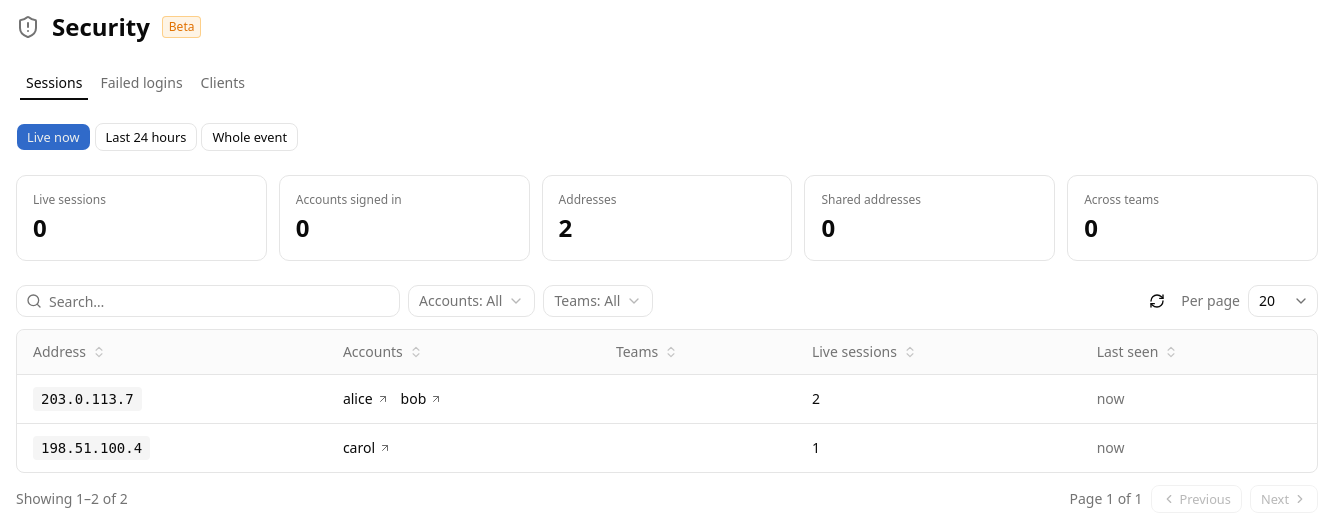
Test: narrows the list to shared addresses on request
The image size is (1335, 530).
Expected: the text "198.51.100.4" is shown, [33,436,150,460]
Click the button "Accounts: All": click(472, 301) [408,285,536,317]
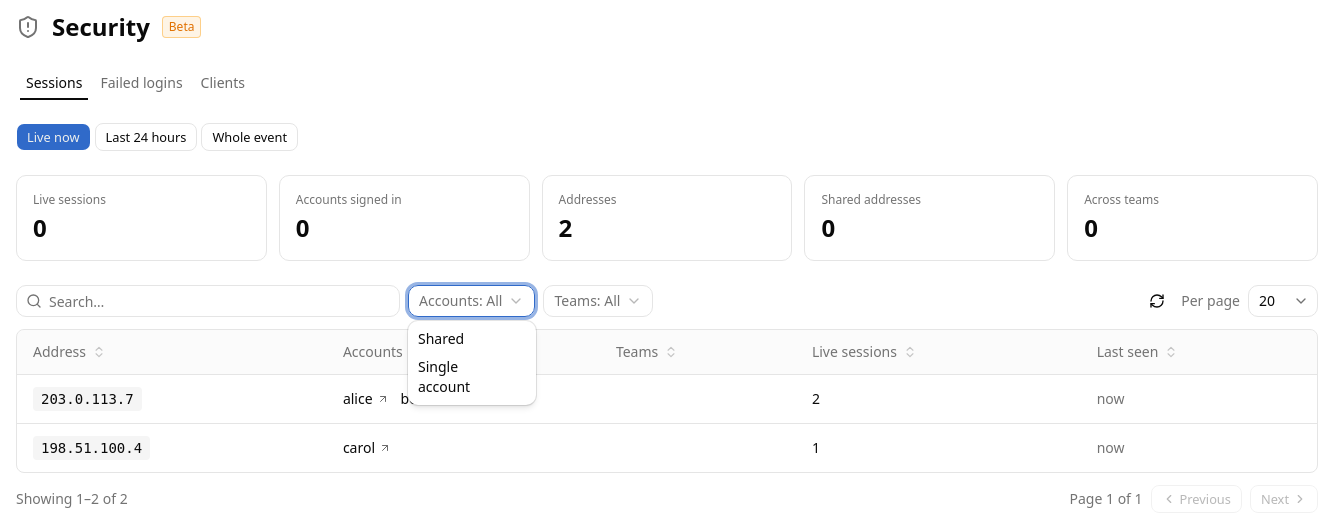
Click the menu item "Shared": click(441, 338) [418,329,464,348]
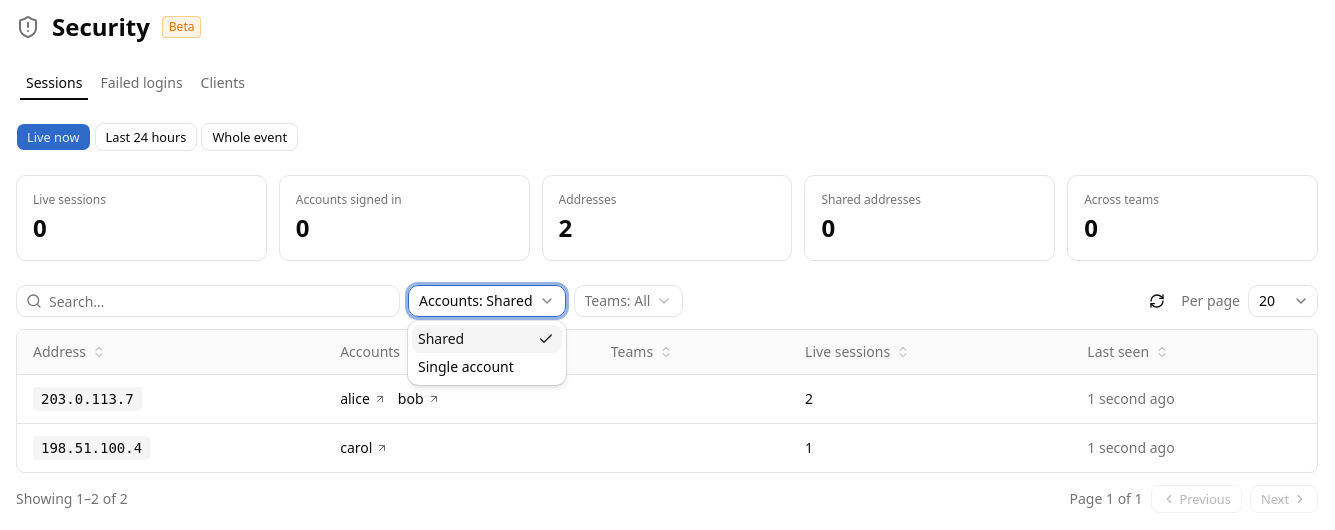
Press Escape
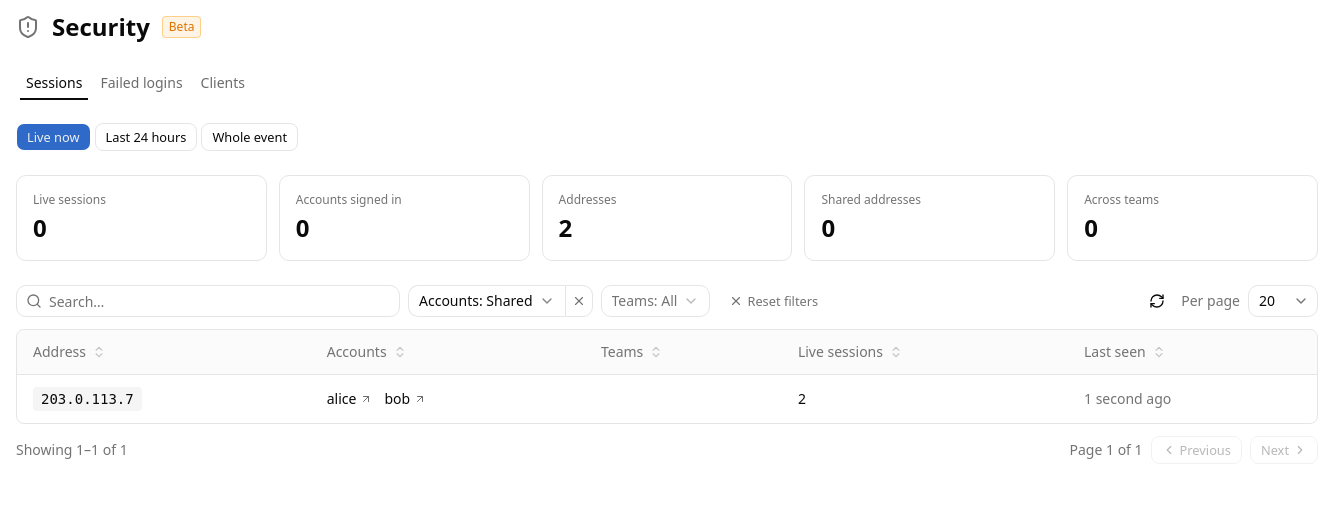
Expected: the text "203.0.113.7" is shown, [33,387,142,411]
Now the text "Accounts: Shared" is shown, box [419,291,532,311]
Now the text "198.51.100.4" is gone
